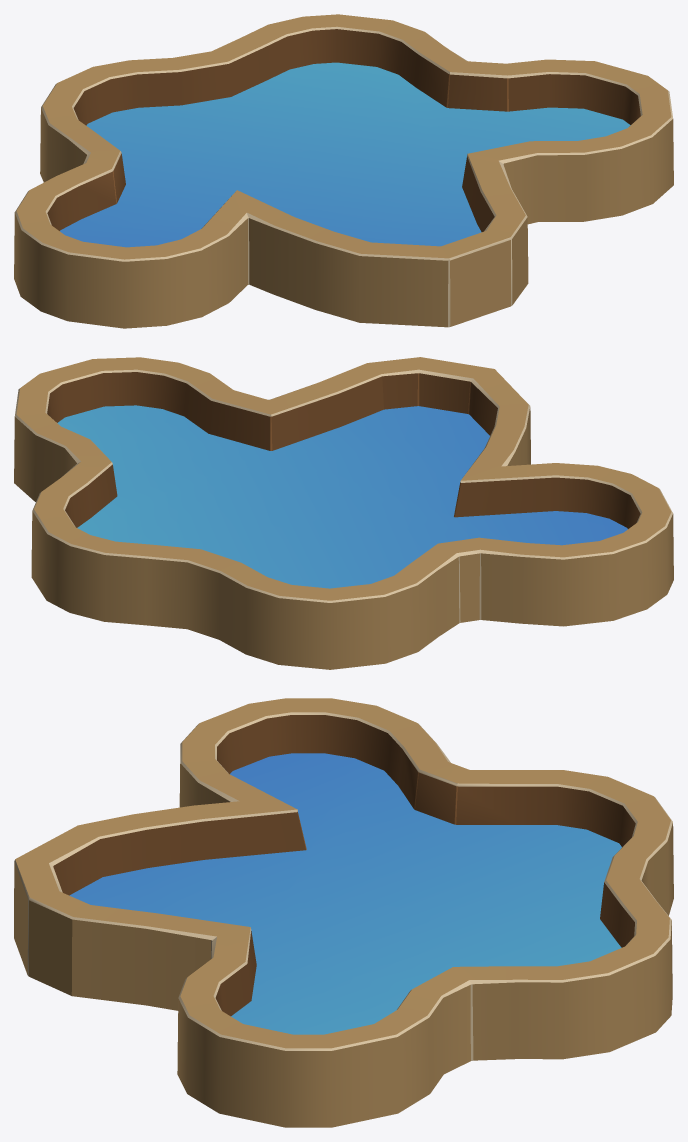
Rendered from pool.fbx.
3 views of the same model, one above another, from view 1: azimuth 30°, elevation 25°; view 2: azimuth 150°, elevation 25°; view 3: azimuth 270°, elevation 25° (orthographic). The views are drawn at different scales.
Parts seen in each view (by area): view 1: Mball.001; view 2: Mball.001; view 3: Mball.001.
Boxes of the visible parts, <box> form: Mball.001: <box>14,14,673,328</box>; Mball.001: <box>14,357,673,669</box>; Mball.001: <box>14,698,673,1127</box>.
Size of the model in its own units: 805 by 83.74 by 637.
